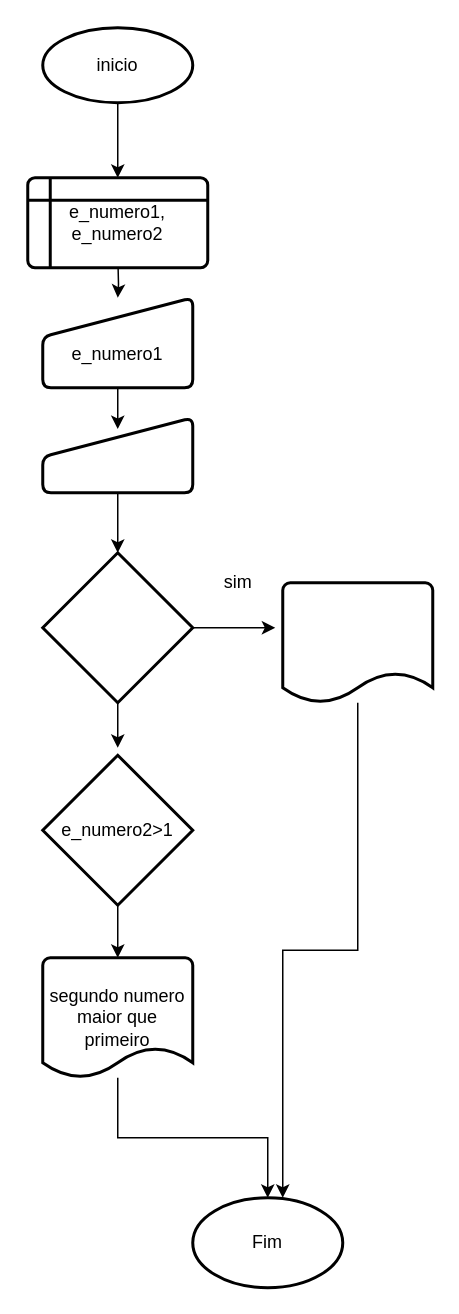
The diagram is 459 pixels wide and 1314 high, and some of its shapes have lost their labels. The box of each missing label's shape, as (x1, y1, x2, y2) in pixels:
e_numero1>2: (40, 550, 194, 704)
e_numero2: (40, 416, 194, 494)
primeiro numero maior que segundo: (280, 580, 434, 704)
